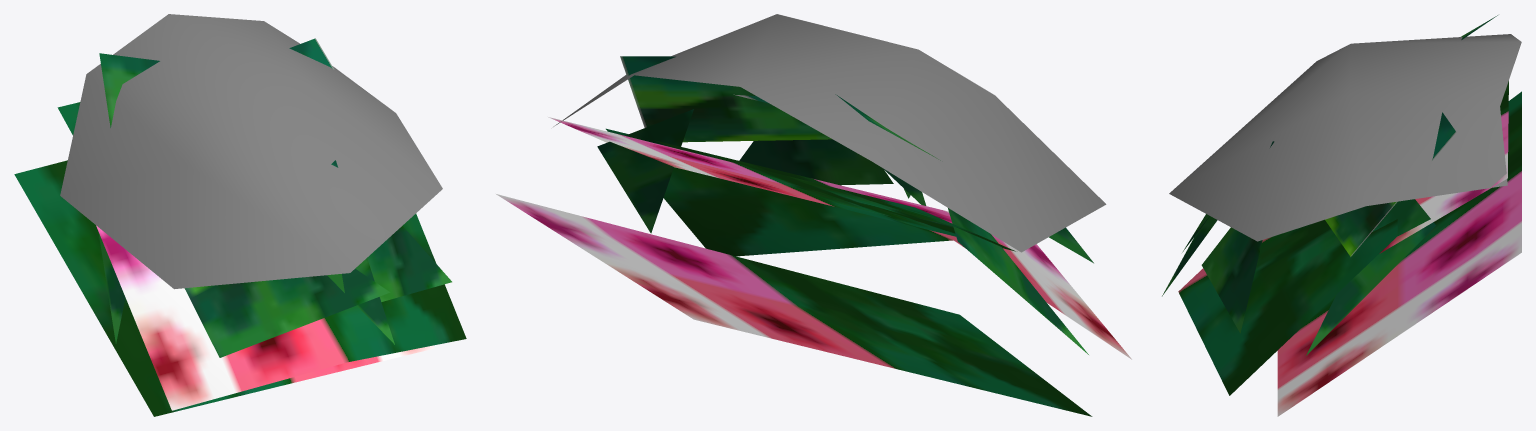
The model's file is fg_bushA_2_s.dae.
The picture shows the model from 3 angles, left to right: view 1: azimuth 30°, elevation 25°; view 2: azimuth 150°, elevation 25°; view 3: azimuth 270°, elevation 25°; orthographic projection. The views are drawn at different scales.
Parts seen in each view (by area): view 1: fg_bushA_2_s; view 2: fg_bushA_2_s; view 3: fg_bushA_2_s.
Part boxes in pixels (x1,y1,x2,y2): fg_bushA_2_s: (14, 14, 466, 416); fg_bushA_2_s: (496, 14, 1131, 416); fg_bushA_2_s: (1162, 15, 1521, 416).
Bounding box in the file's own units: 42.31 × 35.32 × 38.65.
Materials: 1 (1 with a texture image).
